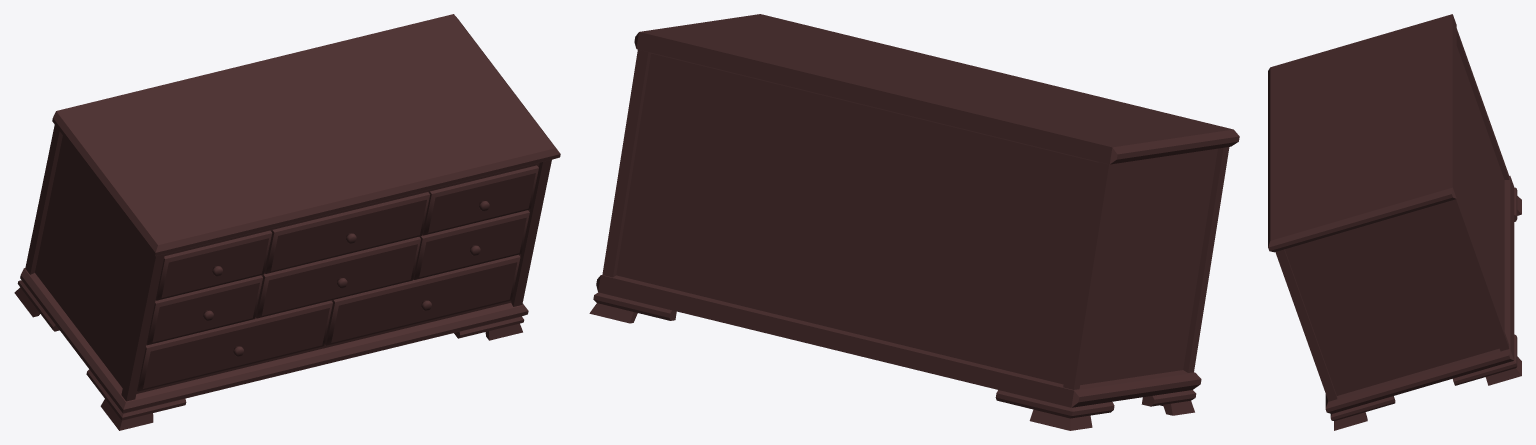
Rendered from Mobile.fbx.
The picture shows the model from 3 angles, left to right: view 1: azimuth 30°, elevation 25°; view 2: azimuth 150°, elevation 25°; view 3: azimuth 270°, elevation 25°; orthographic projection. The views are drawn at different scales.
Visible parts, largest first — view 1: b_low, a_low, c_low, e_low, d_low; view 2: b_low, c_low, e_low; view 3: b_low, c_low, e_low.
Part boxes in pixels (bbox=[...]): b_low: bbox=[20, 14, 560, 413]; a_low: bbox=[137, 165, 538, 391]; c_low: bbox=[25, 125, 551, 401]; e_low: bbox=[14, 280, 524, 430]; d_low: bbox=[203, 201, 489, 356]; b_low: bbox=[596, 14, 1239, 407]; c_low: bbox=[602, 49, 1229, 389]; e_low: bbox=[589, 292, 1196, 430]; b_low: bbox=[1268, 14, 1514, 413]; c_low: bbox=[1275, 28, 1509, 401]; e_low: bbox=[1330, 187, 1521, 430].
Size of the model in its own units: 183 by 117 by 111.
